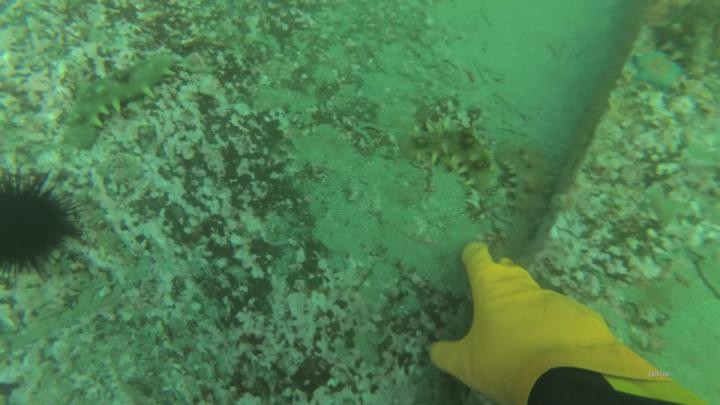echinus: (2, 164, 91, 284)
holothurian: (55, 49, 178, 156), (400, 112, 498, 199), (497, 147, 560, 230), (680, 22, 720, 85)
starfish: (632, 47, 686, 97)
